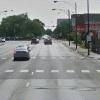Car: (8, 40, 39, 65)
